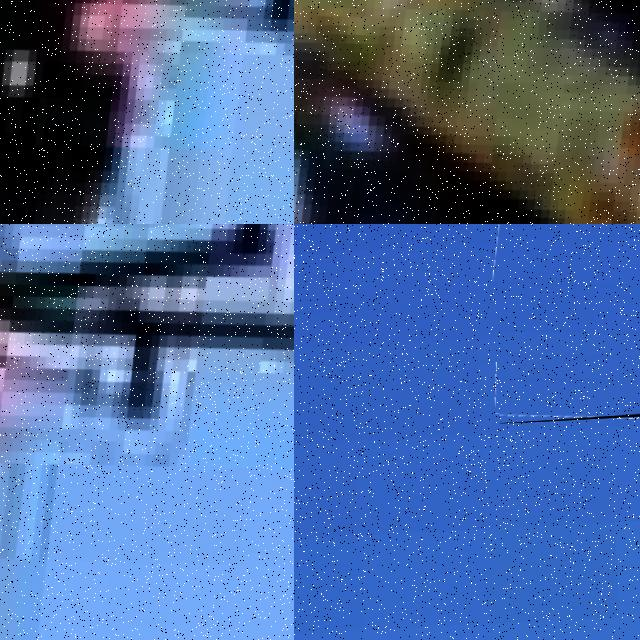drone: (0, 224, 294, 640), (294, 0, 640, 224), (0, 0, 294, 224), (488, 224, 640, 424)
